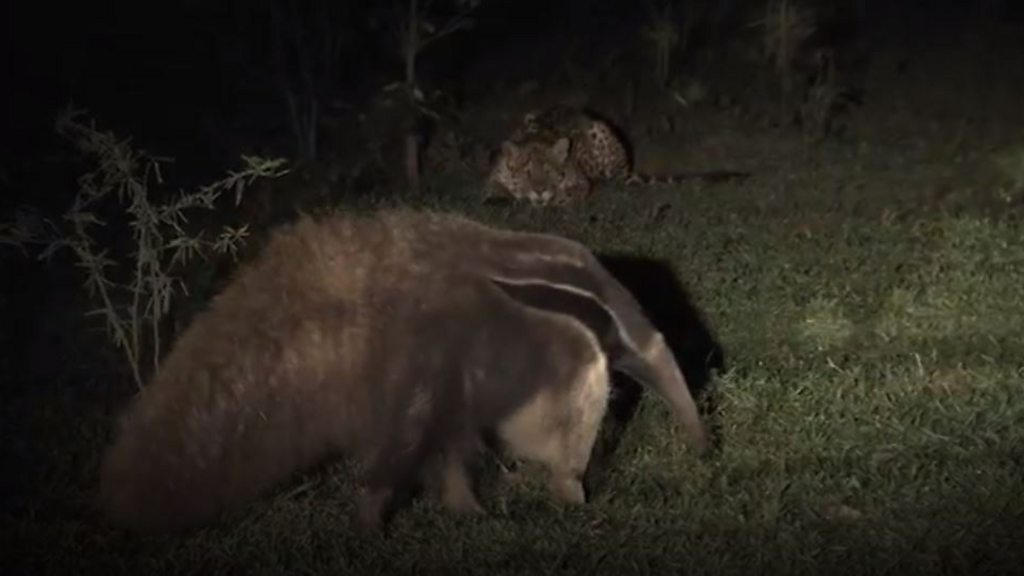TamanduaBandeira: (92, 199, 718, 528)
